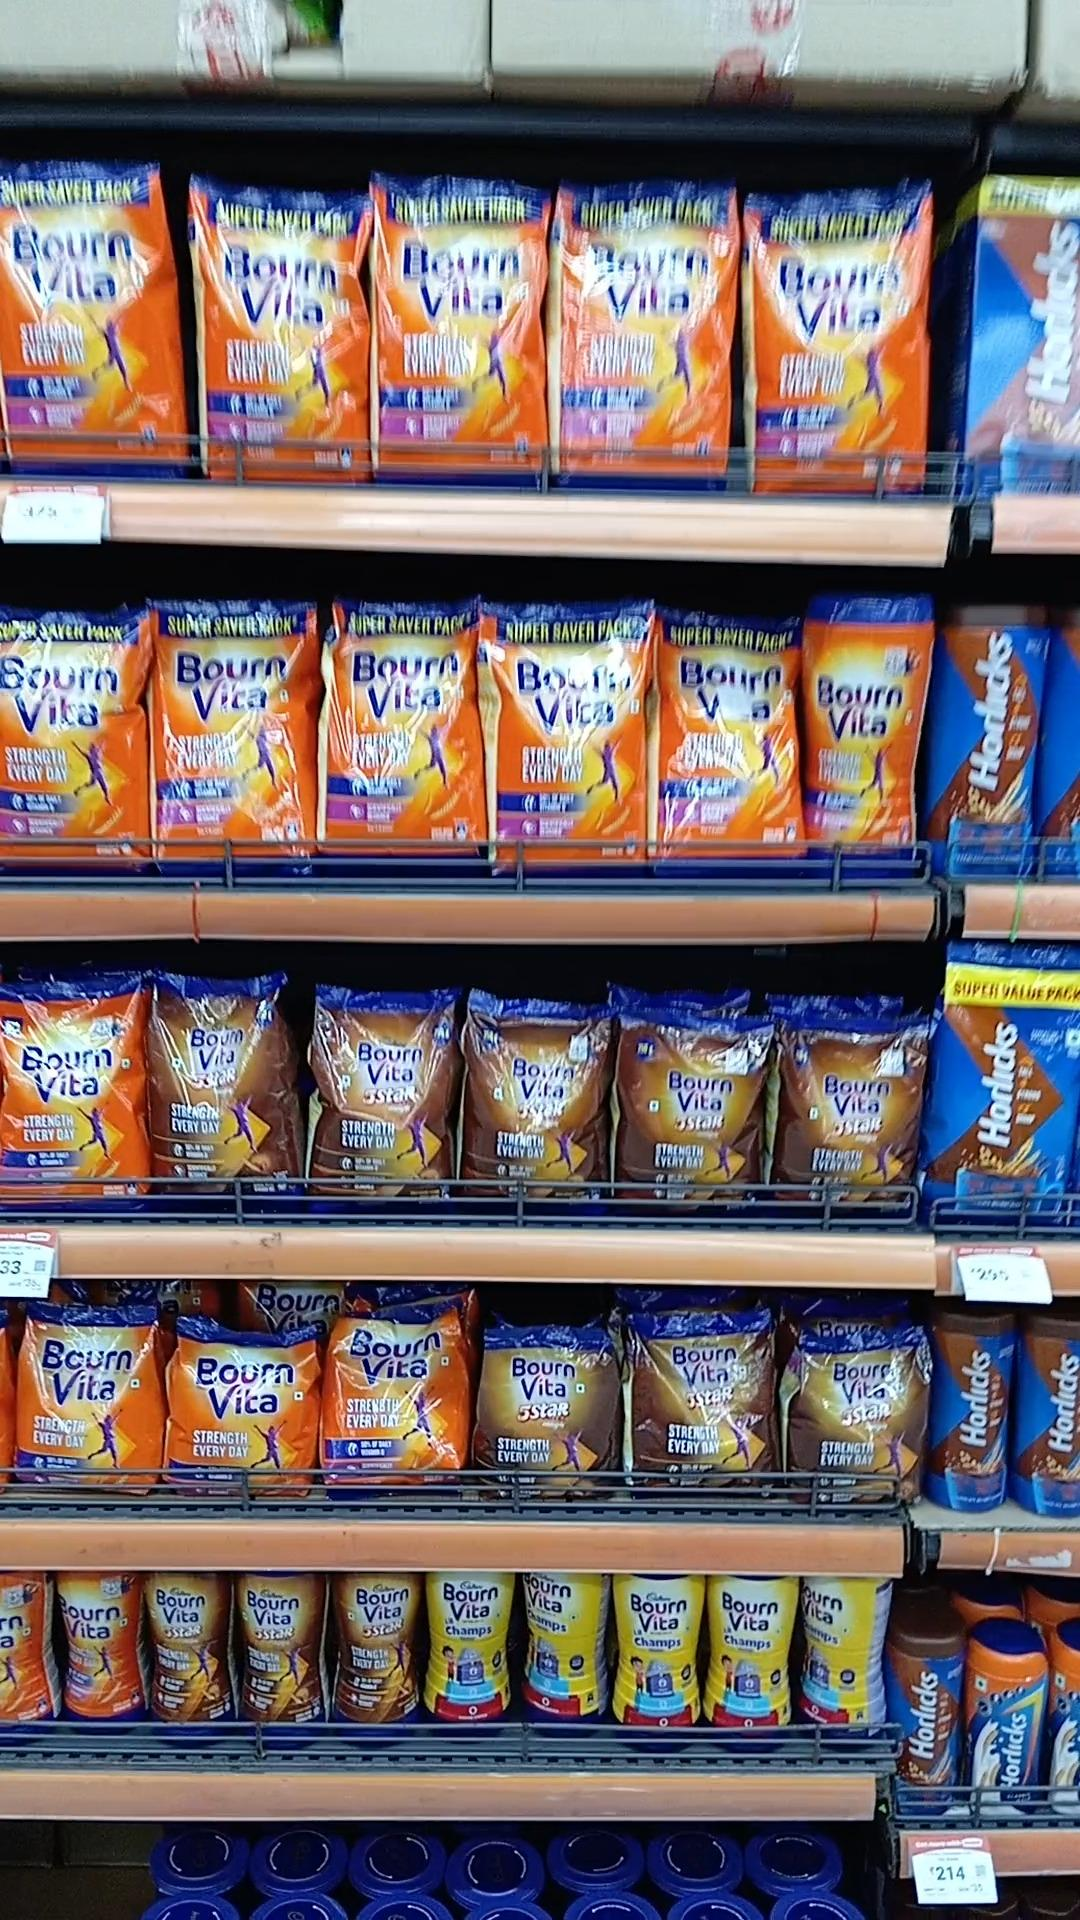BOURN_VITA_1_KG_JAR: (804, 587, 928, 870)
BOURN_VITA_1_KG_POUCH: (0, 160, 193, 475), (741, 177, 927, 501), (553, 182, 735, 493), (376, 174, 549, 489), (198, 174, 372, 480), (160, 593, 320, 874), (484, 600, 646, 877), (326, 596, 477, 869), (0, 612, 152, 872), (658, 605, 799, 862)
BOURN_VITA_500_G_JAR: (62, 1569, 152, 1735)
BOURN_VITA_500_G_POUCH: (11, 1305, 171, 1487), (322, 1311, 472, 1490), (174, 1312, 316, 1493)
BOURN_VITA_750_G_POUCH: (0, 981, 148, 1197)
BOURN_VITA_CHAMPS_500_G_JAR: (708, 1576, 796, 1758), (613, 1573, 704, 1743), (431, 1569, 520, 1735), (524, 1568, 608, 1733), (802, 1576, 885, 1742)
BOURN_VITA_FIVE_STAR_MAGIC_500_G_JAR: (332, 1569, 429, 1749), (152, 1571, 239, 1741), (244, 1572, 326, 1747)
BOURN_VITA_FIVE_STAR_MAGIC_500_G_POUCH: (786, 1316, 930, 1502), (633, 1312, 779, 1490), (479, 1323, 624, 1499)
BOURN_VITA_FIVE_STAR_MAGIC_750_G_POUCH: (620, 1005, 774, 1221), (311, 978, 458, 1200), (464, 988, 608, 1211), (157, 972, 299, 1178), (779, 1005, 922, 1211)
HORLICK_CHOCOLATE_1_KG_JAR: (934, 595, 1043, 866)
HORLICK_CHOCOLATE_500_G_JAR: (887, 1606, 960, 1824), (939, 1309, 1014, 1511), (1022, 1311, 1080, 1520)
HORLICK_CHOCOLATE_750_G_POUCH: (928, 959, 1080, 1216)
HORLICK_CLASSIC_MALT_500_G_JAR: (967, 1615, 1046, 1820)
